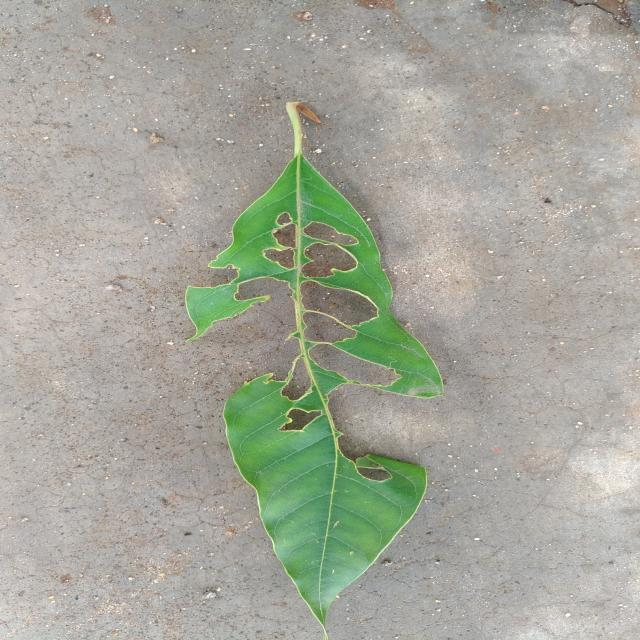coffee leaf rust: (187, 102, 442, 604)
